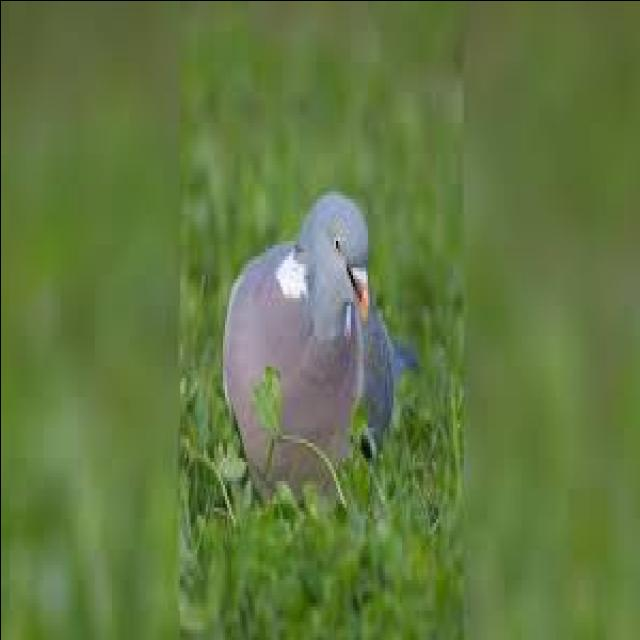pigeon: (220, 135, 420, 512)
